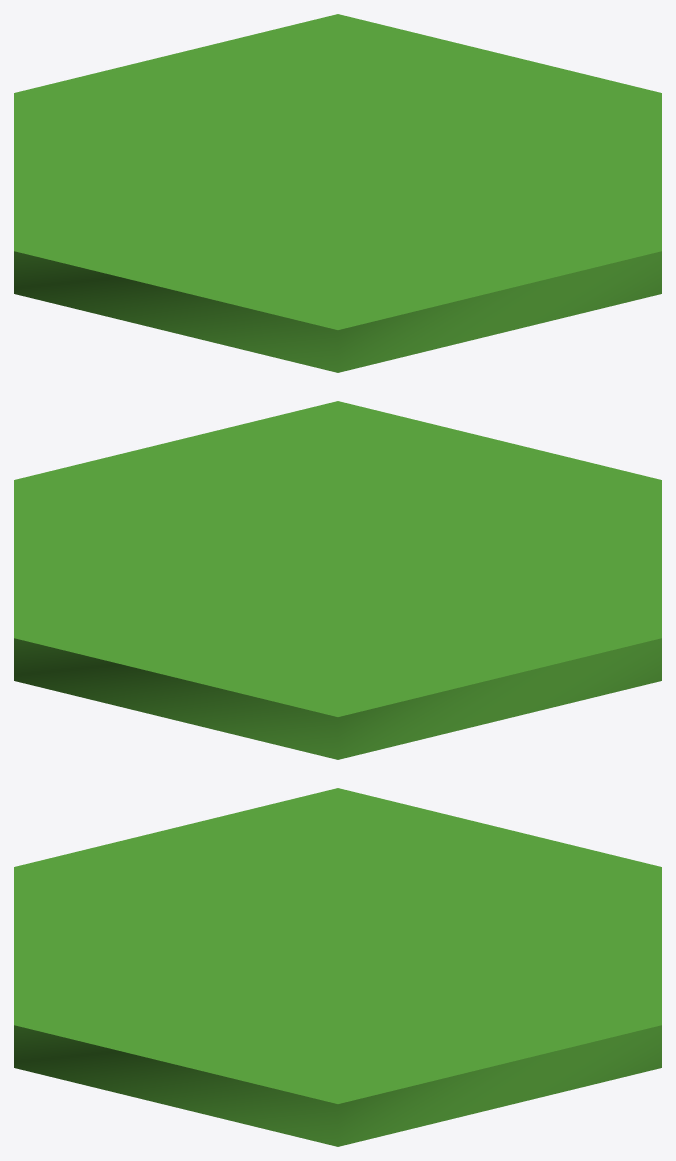
File: greenhex-plain.fbx
The picture shows the model from 3 angles, top to bottom: view 1: azimuth 30°, elevation 25°; view 2: azimuth 150°, elevation 25°; view 3: azimuth 270°, elevation 25°; orthographic projection.
Visible parts, largest first — view 1: Cylinder_1; view 2: Cylinder_1; view 3: Cylinder_1.
Part boxes in pixels (x1,y1,x2,y2): Cylinder_1: [14, 14, 661, 372]; Cylinder_1: [14, 401, 661, 759]; Cylinder_1: [14, 788, 661, 1146].
Bounding box in the file's own units: 4547 × 287 × 3938.
